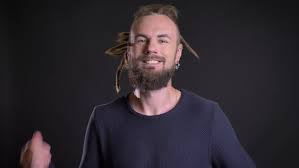white_male: (130, 21, 188, 89)
